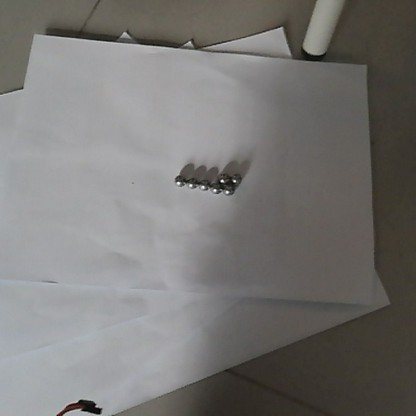ironball: (171, 171, 187, 189), (207, 181, 221, 196), (185, 176, 198, 190), (230, 171, 242, 186), (221, 182, 233, 196), (197, 179, 209, 193), (217, 171, 229, 183)
